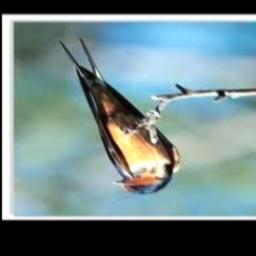Swallow: (59, 39, 181, 195)
